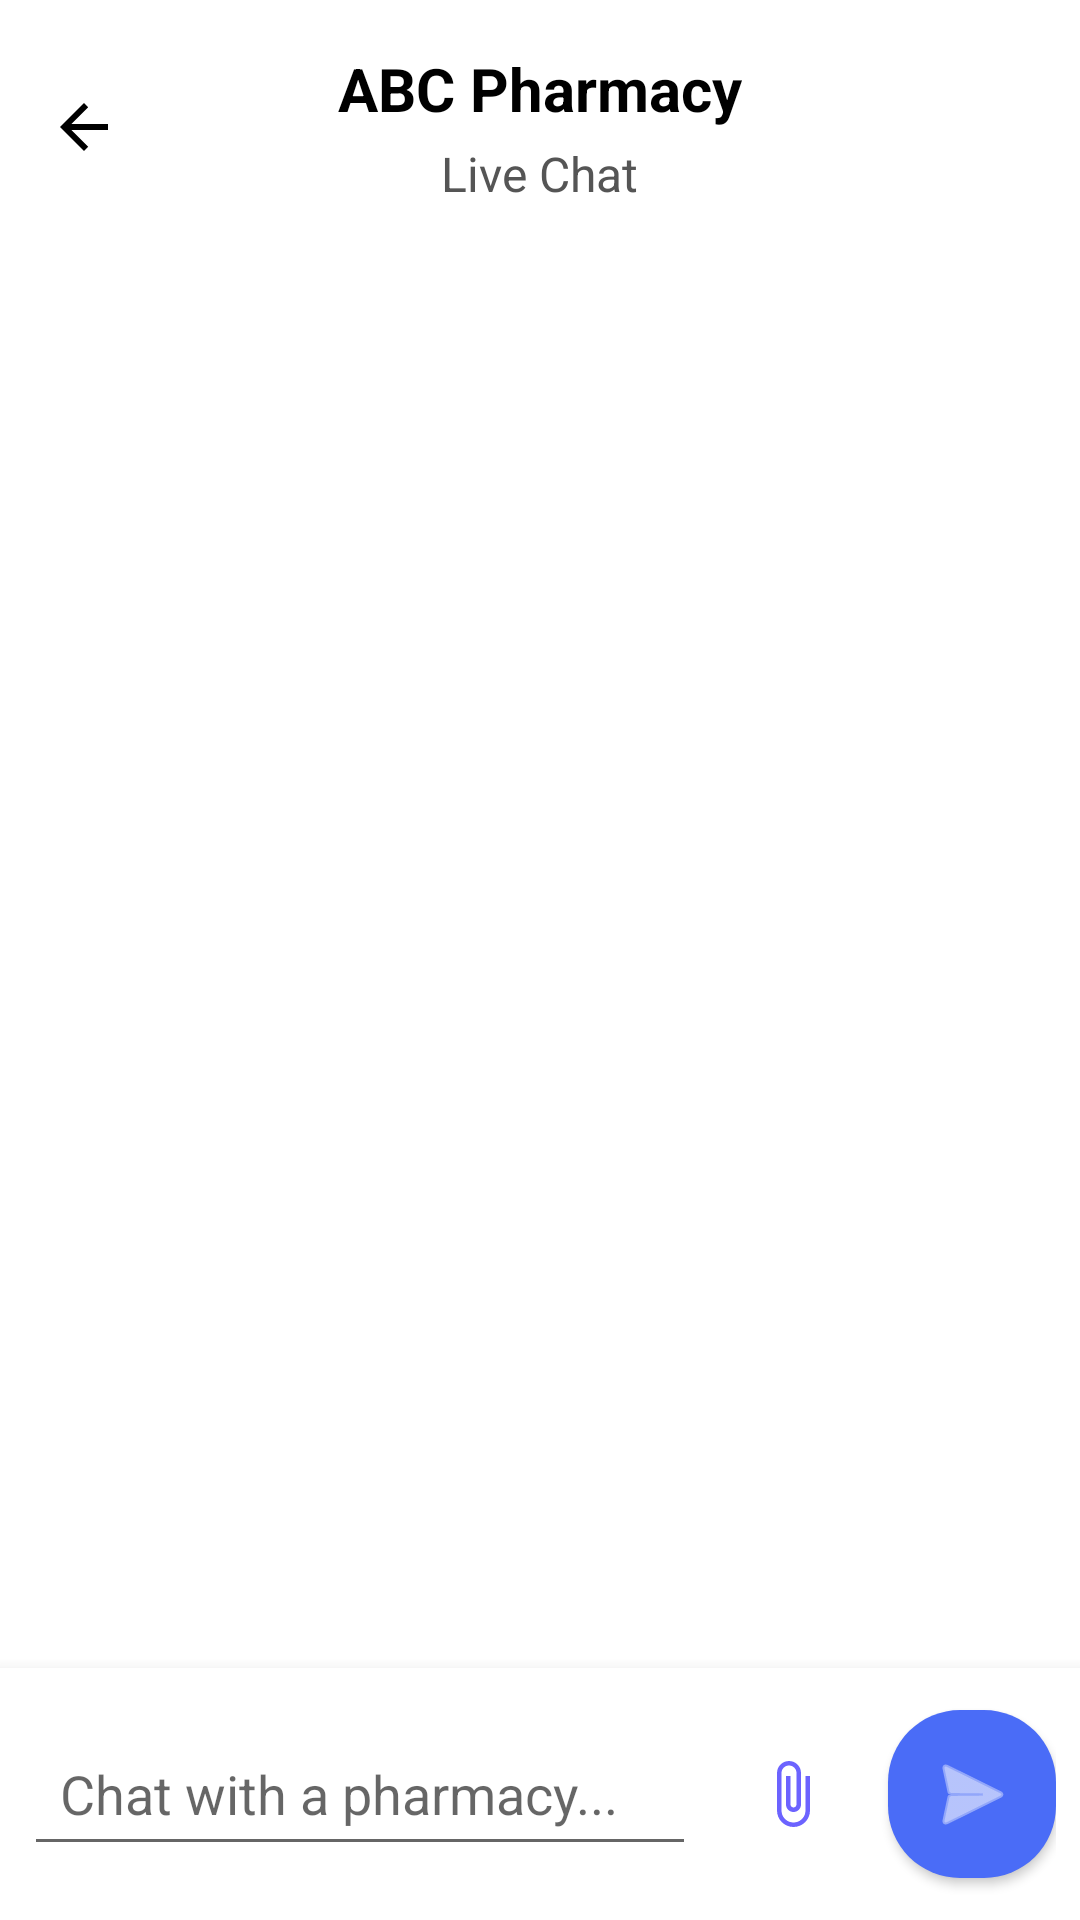

Named icons in this screenshot (1080px x 1920px) and their bounding boxes, (x1, y1, x2, y2):
attach: (777, 1761, 810, 1827)
Back: (60, 103, 108, 151)
send: (888, 1710, 1056, 1884)
